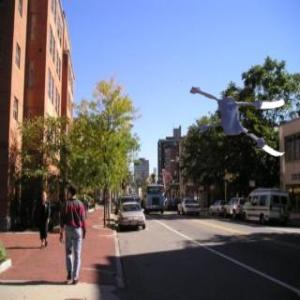drone: (185, 58, 300, 173)
